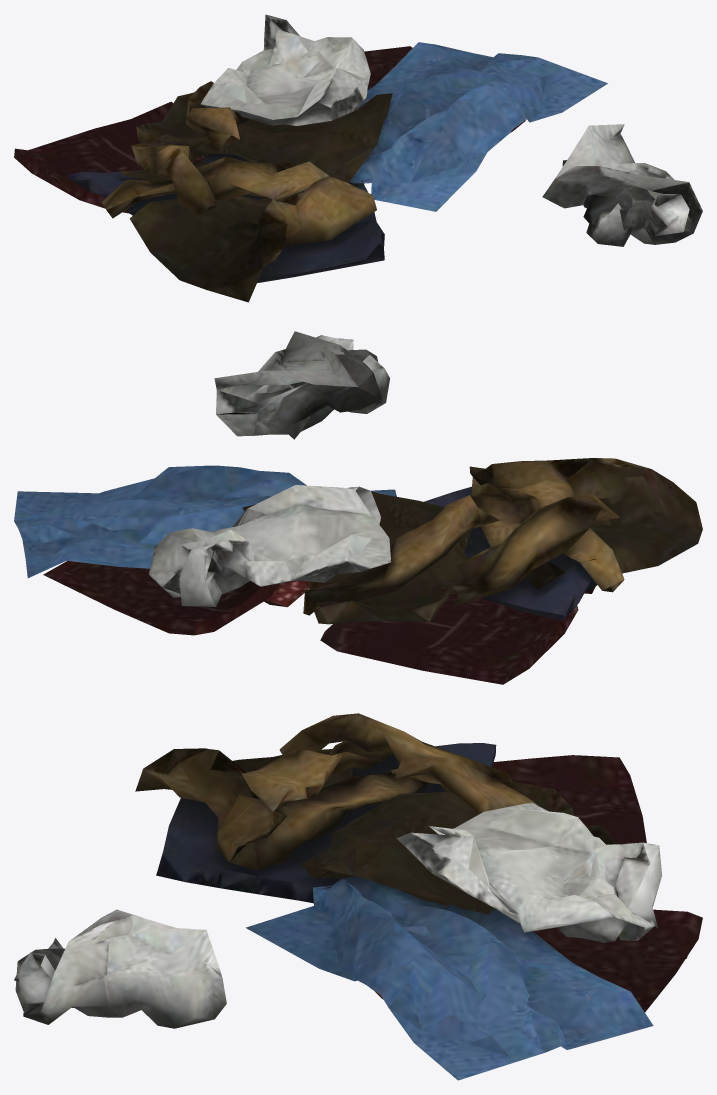
File: pile8_0_lod1_web.glb
The picture shows the model from 3 angles, top to bottom: view 1: azimuth 30°, elevation 25°; view 2: azimuth 150°, elevation 25°; view 3: azimuth 270°, elevation 25°; orthographic projection. The views are drawn at different scales.
Parts seen in each view (by area): view 1: pile8_0_towel3_Cloth, pile8_0_sweater4_Cloth, pile8_0_sweater5_Cloth, pile8_0_tshirt6_Cloth, pile8_0_tshirt7_Cloth, pile8_0_shirt0_Cloth, pile8_0_skirt2_Cloth, pile8_0_shirt1_Cloth; view 2: pile8_0_sweater5_Cloth, pile8_0_tshirt6_Cloth, pile8_0_sweater4_Cloth, pile8_0_towel3_Cloth, pile8_0_shirt0_Cloth, pile8_0_tshirt7_Cloth, pile8_0_shirt1_Cloth, pile8_0_skirt2_Cloth; view 3: pile8_0_towel3_Cloth, pile8_0_tshirt6_Cloth, pile8_0_sweater5_Cloth, pile8_0_sweater4_Cloth, pile8_0_tshirt7_Cloth, pile8_0_skirt2_Cloth, pile8_0_shirt1_Cloth, pile8_0_shirt0_Cloth.
Boxes of the visible parts, bbox=[...] form: pile8_0_towel3_Cloth: bbox=[350, 42, 607, 211]; pile8_0_sweater4_Cloth: bbox=[102, 156, 376, 302]; pile8_0_sweater5_Cloth: bbox=[131, 81, 392, 215]; pile8_0_tshirt6_Cloth: bbox=[200, 14, 370, 125]; pile8_0_tshirt7_Cloth: bbox=[542, 124, 702, 246]; pile8_0_shirt0_Cloth: bbox=[14, 101, 208, 213]; pile8_0_skirt2_Cloth: bbox=[67, 153, 384, 282]; pile8_0_shirt1_Cloth: bbox=[364, 46, 526, 132]; pile8_0_sweater5_Cloth: bbox=[242, 491, 619, 624]; pile8_0_tshirt6_Cloth: bbox=[148, 485, 391, 606]; pile8_0_sweater4_Cloth: bbox=[469, 458, 702, 592]; pile8_0_towel3_Cloth: bbox=[14, 465, 396, 577]; pile8_0_shirt0_Cloth: bbox=[264, 580, 595, 684]; pile8_0_tshirt7_Cloth: bbox=[214, 331, 389, 439]; pile8_0_shirt1_Cloth: bbox=[43, 561, 279, 635]; pile8_0_skirt2_Cloth: bbox=[424, 486, 597, 620]; pile8_0_towel3_Cloth: bbox=[245, 876, 653, 1080]; pile8_0_tshirt6_Cloth: bbox=[397, 802, 662, 942]; pile8_0_sweater5_Cloth: bbox=[279, 713, 616, 914]; pile8_0_sweater4_Cloth: bbox=[135, 741, 430, 871]; pile8_0_tshirt7_Cloth: bbox=[14, 909, 226, 1028]; pile8_0_skirt2_Cloth: bbox=[156, 743, 496, 903]; pile8_0_shirt1_Cloth: bbox=[374, 909, 702, 1012]; pile8_0_shirt0_Cloth: bbox=[492, 755, 646, 844].
Size of the model in its own units: 1.44 by 0.2025 by 1.35.
Materials: 1 (1 with a texture image).
